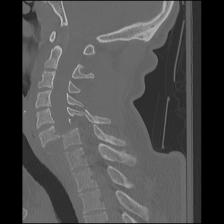compression-crush-fracture: (22, 0, 202, 224)
